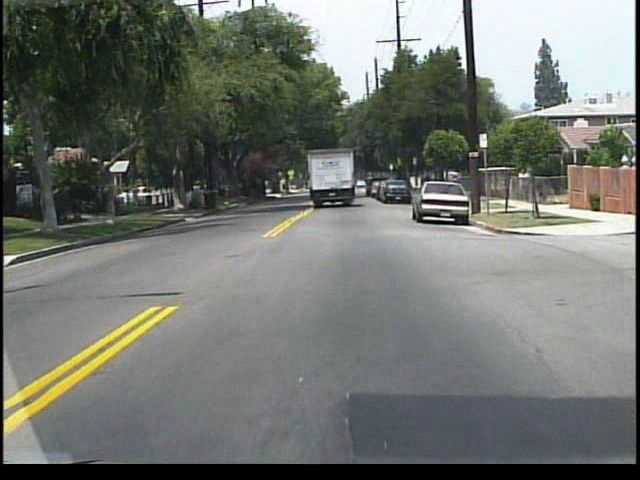person: (516, 164, 531, 201)
